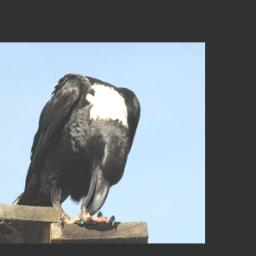Crow: (11, 68, 142, 229)
